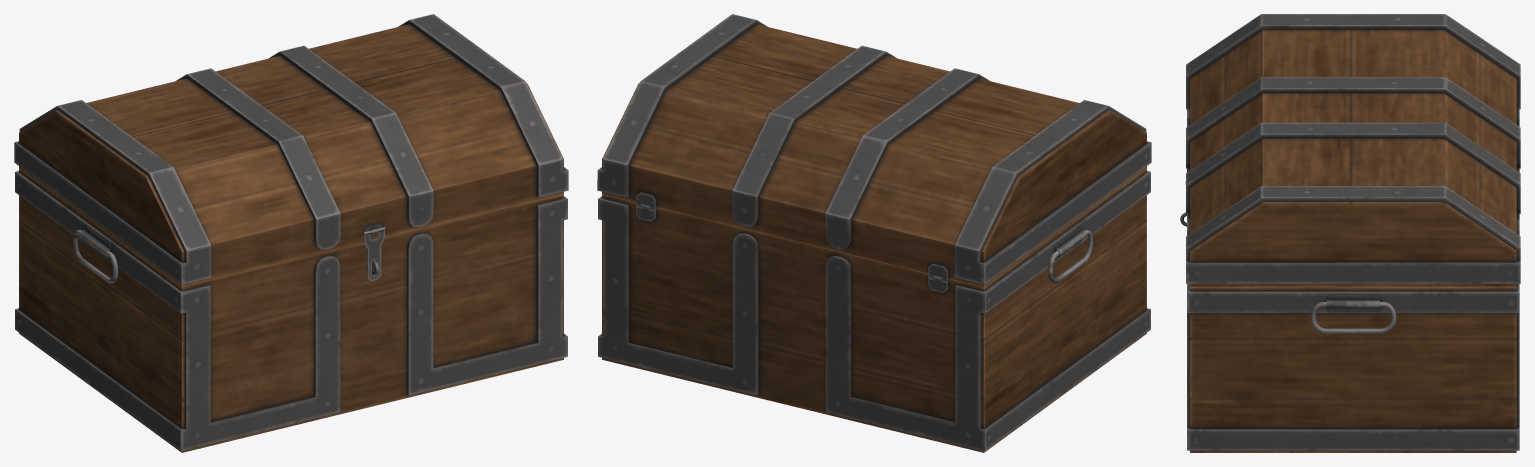
The model's file is chest.gltf.
3 renders of one model, left to right at view 1: azimuth 30°, elevation 25°; view 2: azimuth 150°, elevation 25°; view 3: azimuth 270°, elevation 25°, orthographic.
Parts seen in each view (by area): view 1: Chest_02_003, Chest_02_002, Chest_02_001; view 2: Chest_02_003, Chest_02_002; view 3: Chest_02_003, Chest_02_002.
Boxes of the visible parts, x1,y1,x2,y2 form: Chest_02_003: (14, 14, 568, 287); Chest_02_002: (15, 168, 567, 452); Chest_02_001: (363, 227, 385, 280); Chest_02_003: (597, 14, 1151, 286); Chest_02_002: (598, 168, 1150, 452); Chest_02_003: (1185, 14, 1520, 286); Chest_02_002: (1180, 109, 1519, 452).
Size of the model in its own units: 1.15 by 0.698 by 0.8496.
Materials: 1 (1 with a texture image).
